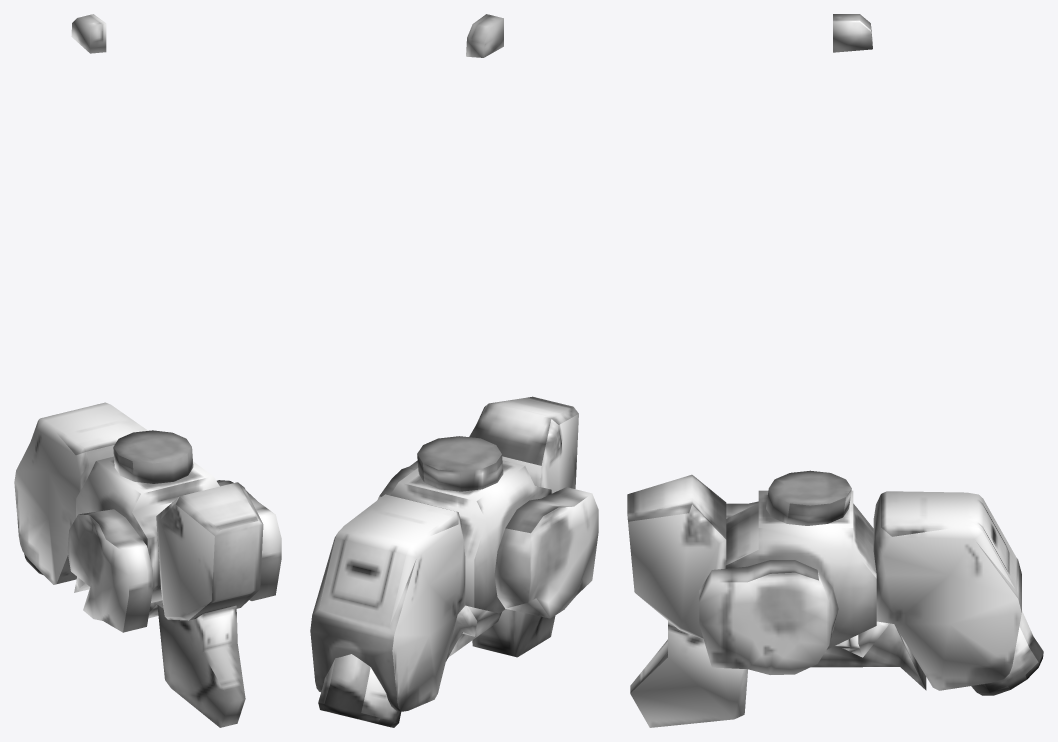
File: pelvis.glb
3 views of the same model, side by side, from view 1: azimuth 30°, elevation 25°; view 2: azimuth 150°, elevation 25°; view 3: azimuth 270°, elevation 25° (orthographic). The views are drawn at different scales.
Parts seen in each view (by area): view 1: pelvis; view 2: pelvis; view 3: pelvis.
Part boxes in pixels (left/top/right/bottom): pelvis: left=14, top=14, right=281, bottom=727; pelvis: left=310, top=14, right=598, bottom=727; pelvis: left=627, top=14, right=1043, bottom=727.
Bounding box in the file's own units: 0.4498 × 1.74 × 0.9619.
Materials: 3 (3 with a texture image).
